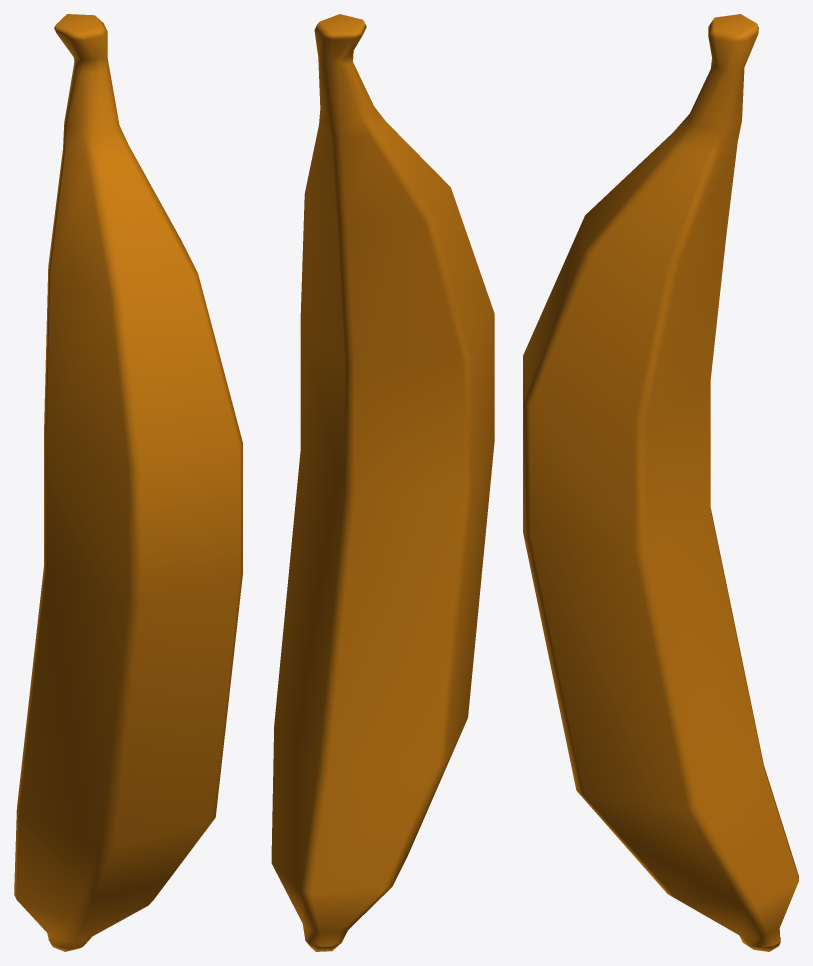
Rendered from Banana.obj.
The picture shows the model from 3 angles, left to right: view 1: azimuth 30°, elevation 25°; view 2: azimuth 150°, elevation 25°; view 3: azimuth 270°, elevation 25°; orthographic projection. The views are drawn at different scales.
Visible parts, largest first — view 1: SingleBanana_Cylinder.020; view 2: SingleBanana_Cylinder.020; view 3: SingleBanana_Cylinder.020.
Boxes of the visible parts, <box> form: SingleBanana_Cylinder.020: <box>14,14,242,951</box>; SingleBanana_Cylinder.020: <box>271,14,494,951</box>; SingleBanana_Cylinder.020: <box>523,14,798,951</box>.
Bounding box in the file's own units: 0.13 × 0.6704 × 0.182.
